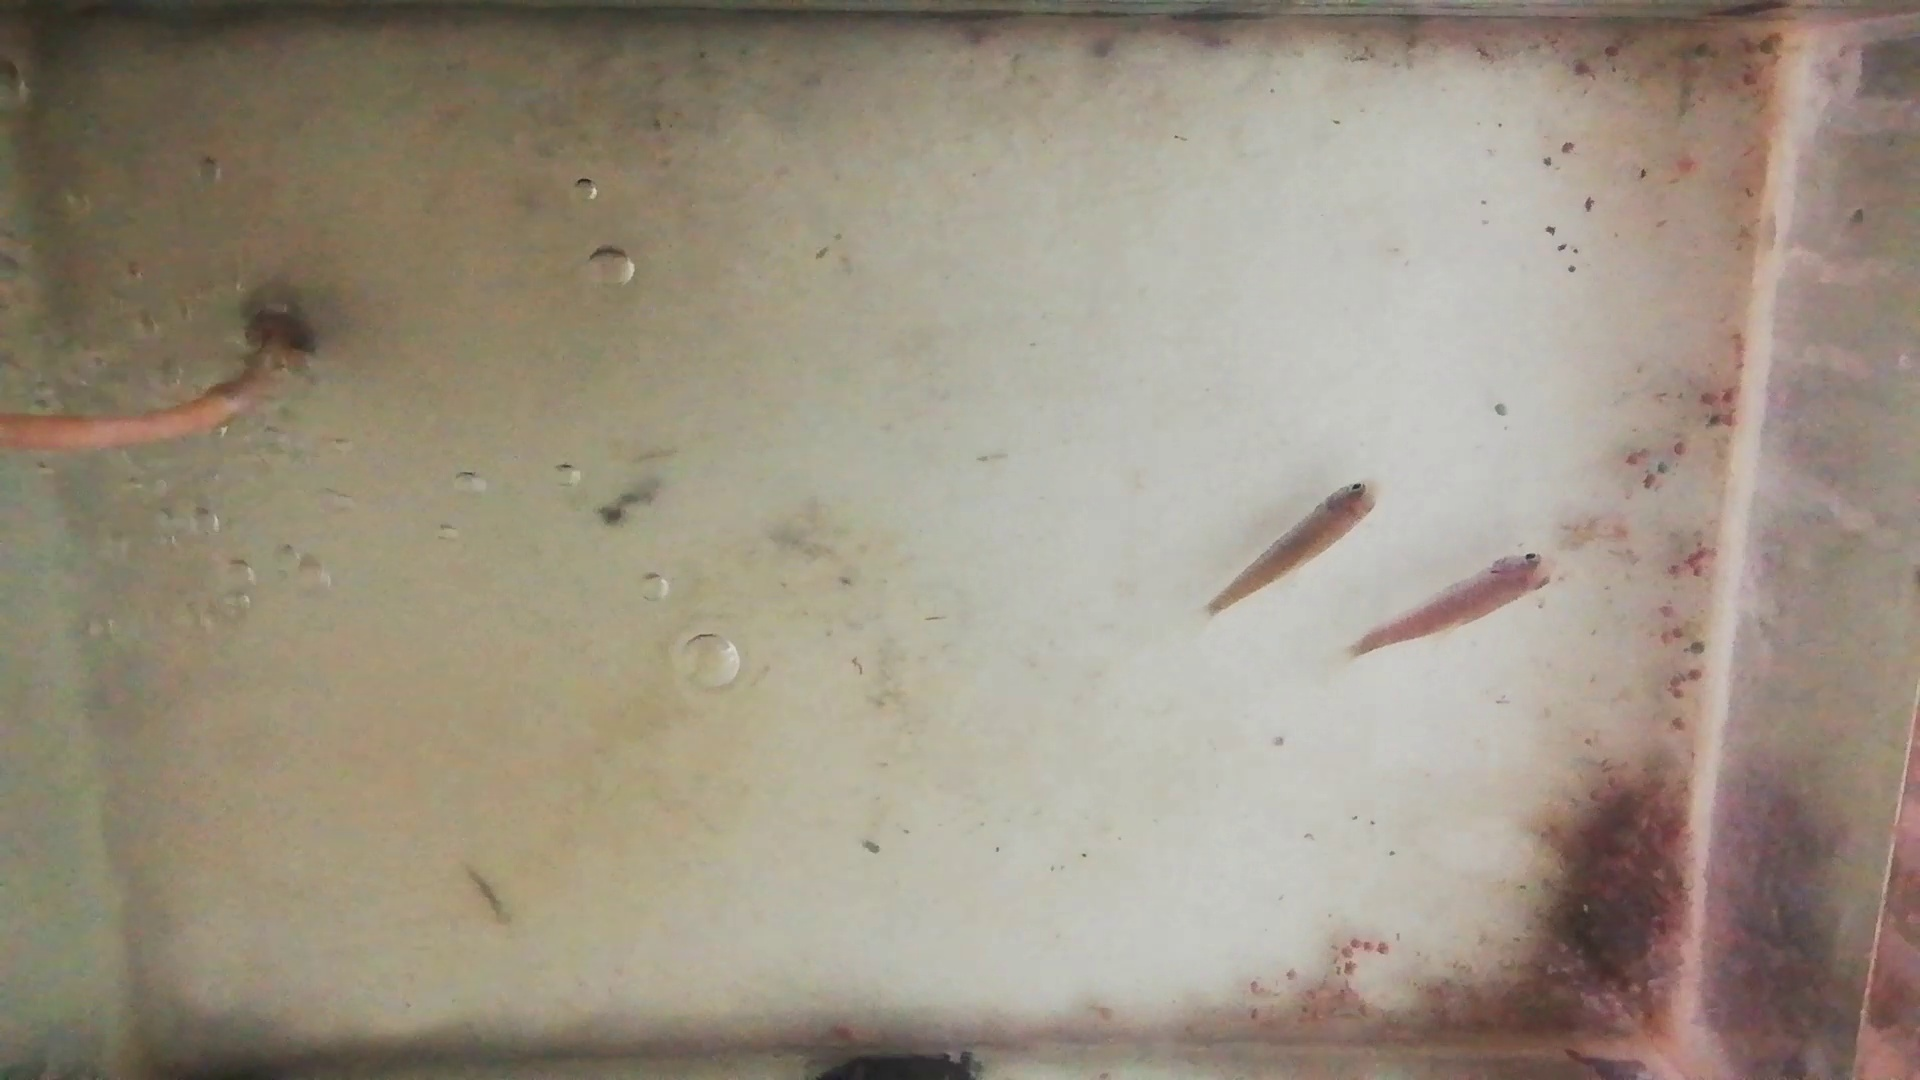fish: (1204, 476, 1379, 612), (1352, 551, 1557, 651)
